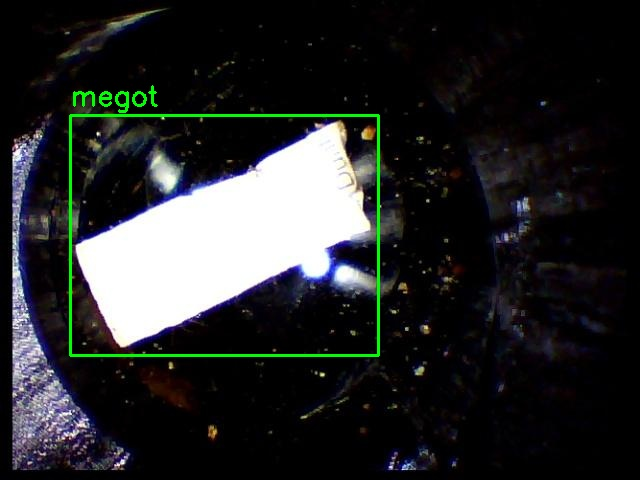megot: (70, 115, 378, 355)
